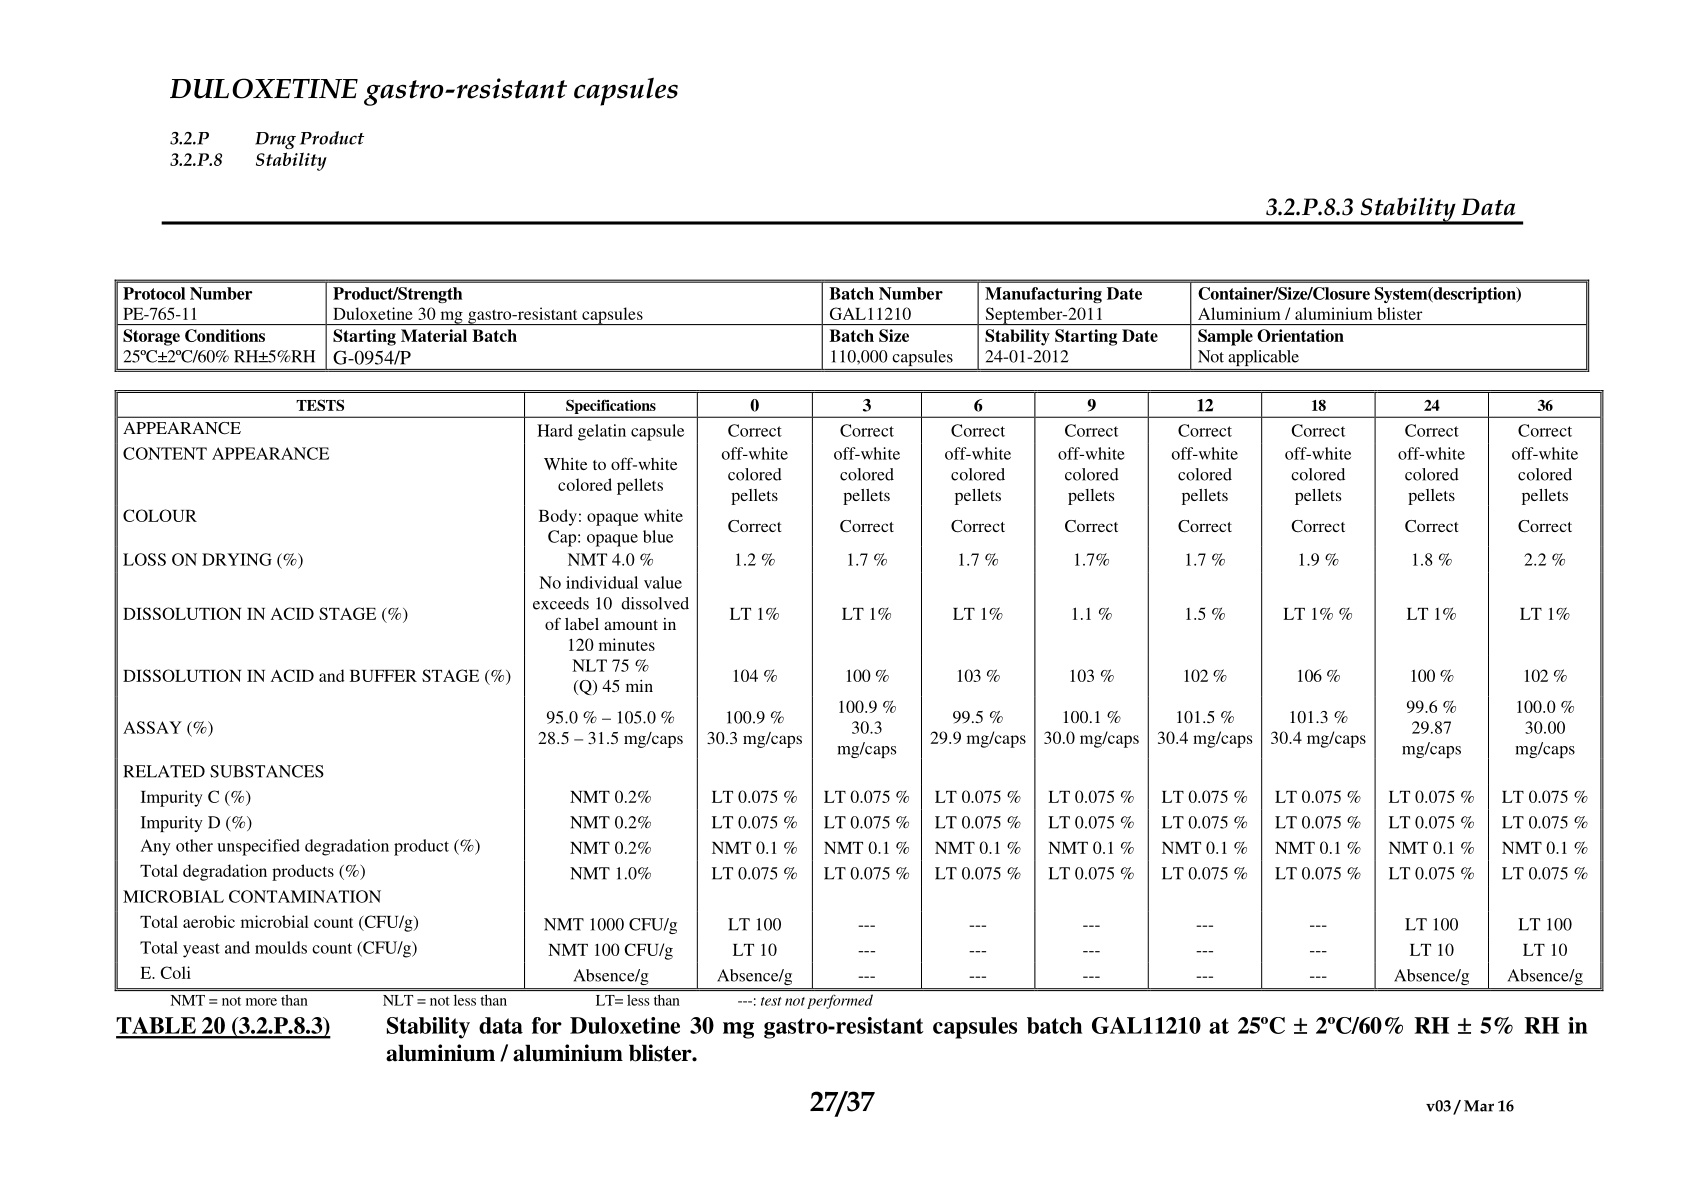full_lined: (113, 278, 1590, 373)
partial_lined_merged_cells: (113, 389, 1604, 992)
